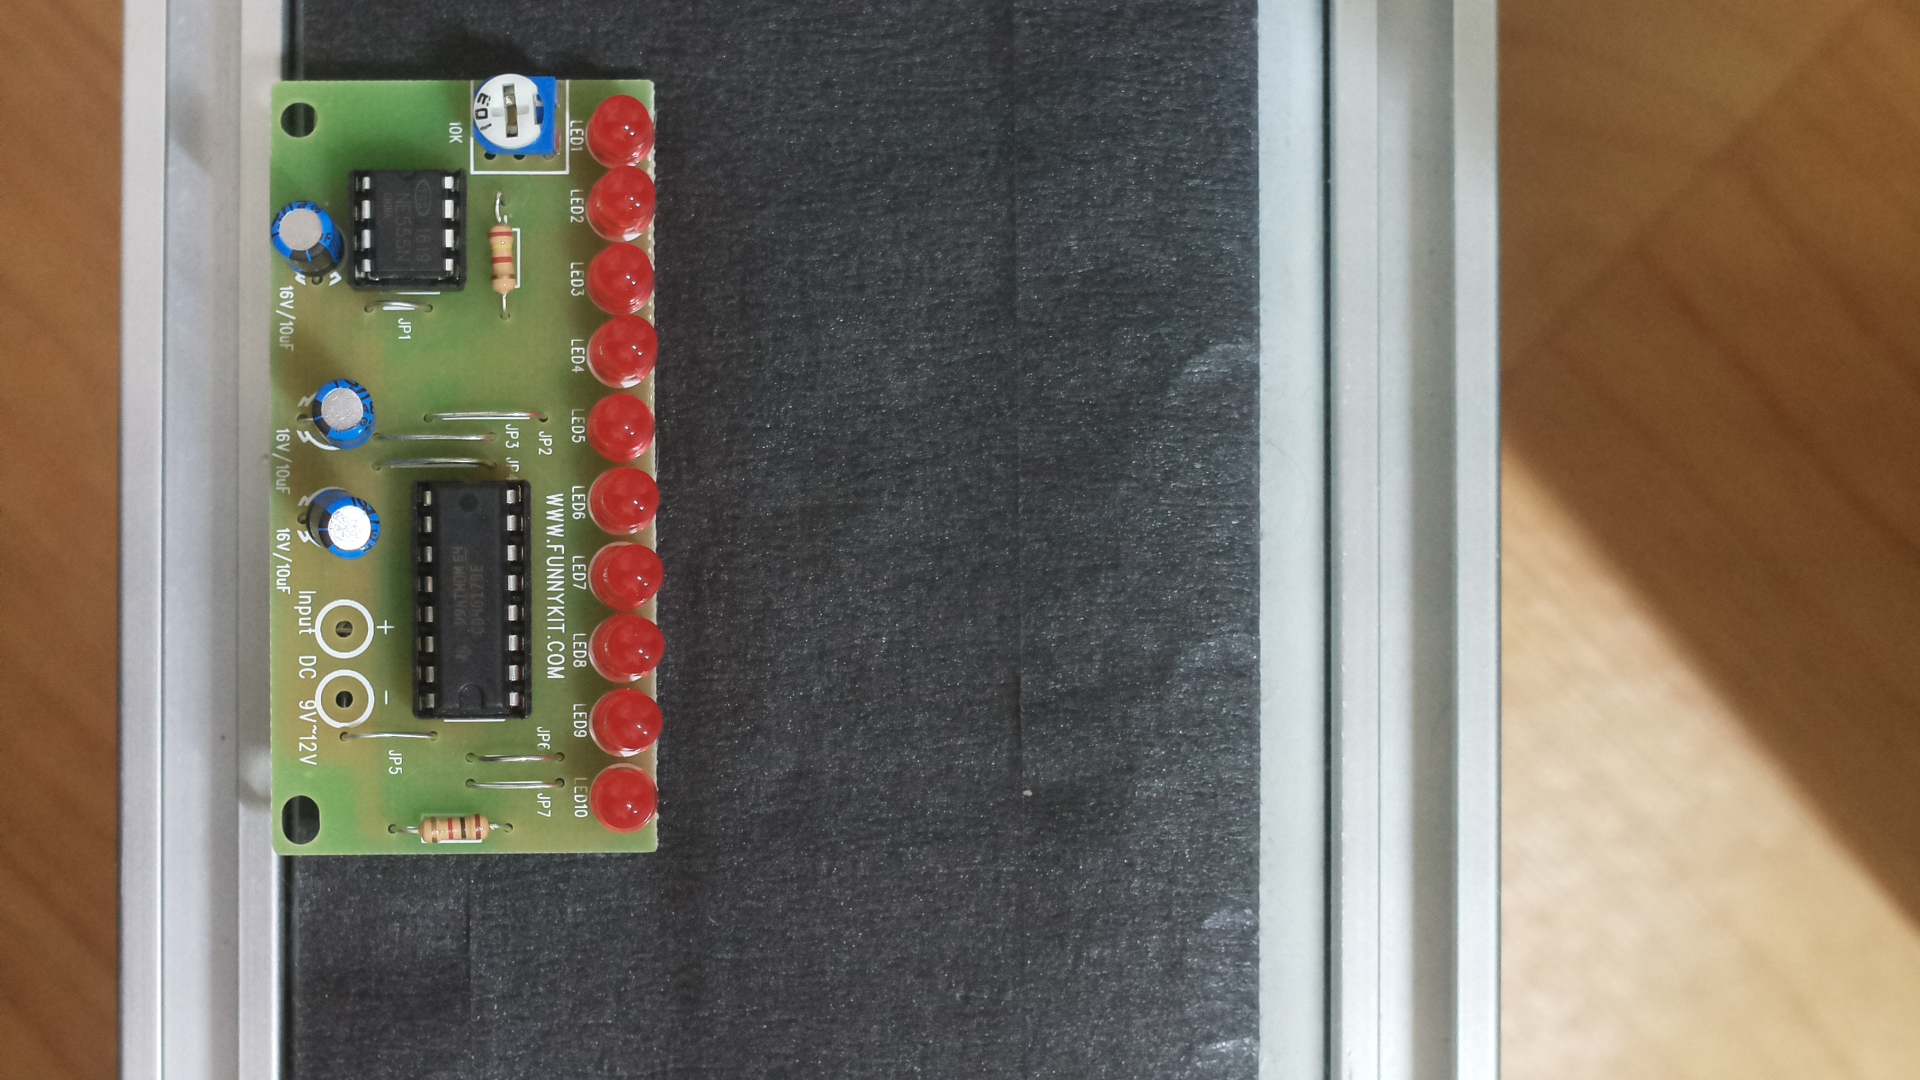B_Normal: (253, 59, 679, 885)
